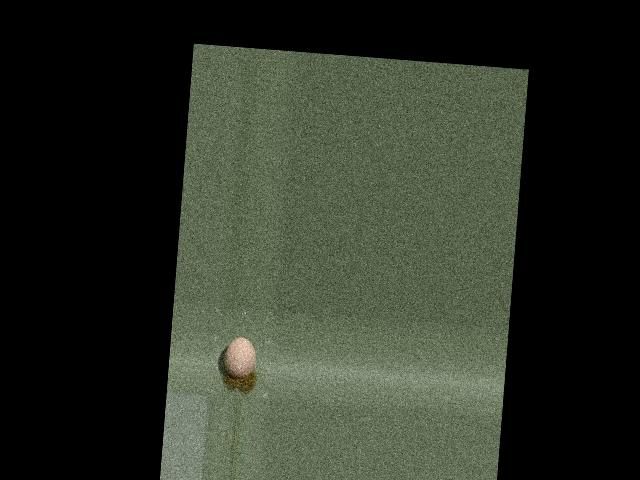egg: (222, 335, 256, 378)
